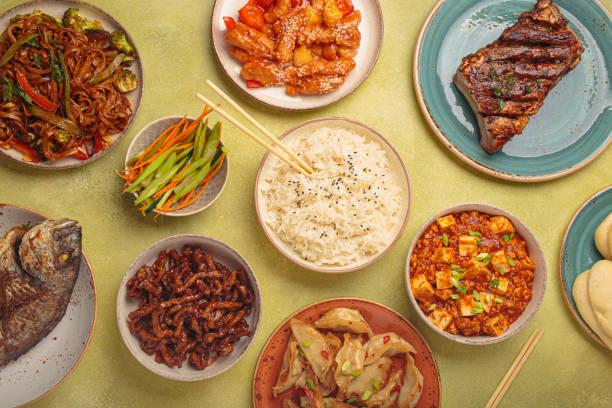Braised Crucian Carp: (413, 0, 611, 184), (253, 116, 410, 273), (3, 0, 144, 170), (117, 233, 260, 383), (405, 203, 544, 346), (210, 0, 383, 113), (124, 115, 228, 217)
